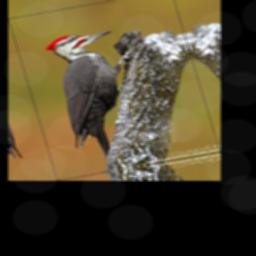Woodpecker: (41, 25, 164, 165)
